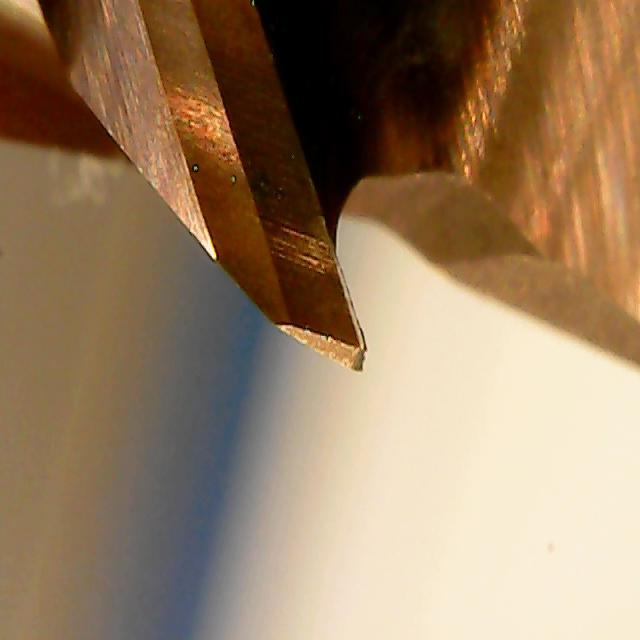Tool-wear-class-1: (222, 168, 382, 379)
